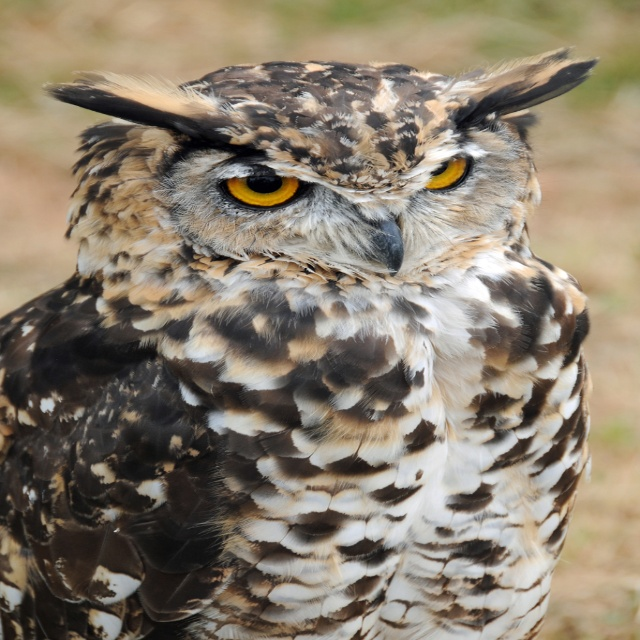Owl: (0, 47, 594, 640)
